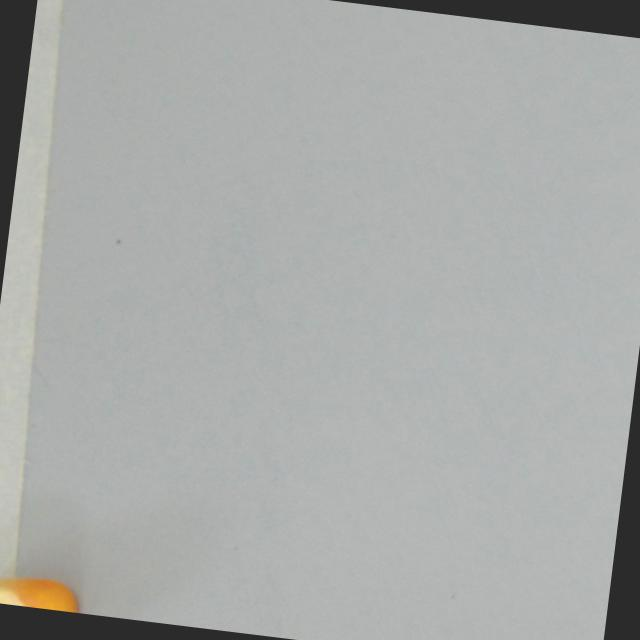entero: (0, 569, 83, 613)
